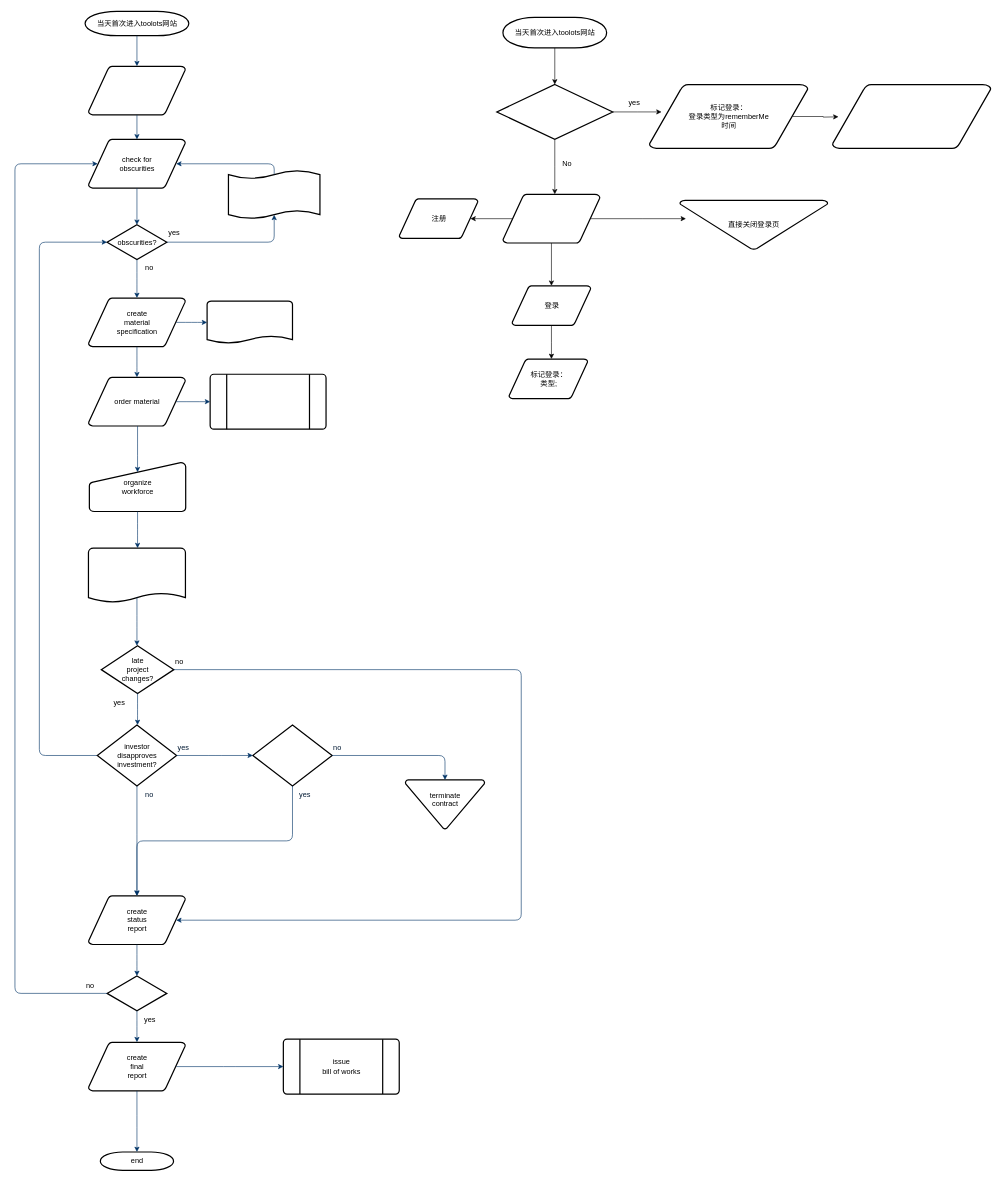
Some shapes in this 1002 by 1181 pixel diagram are drawn without their labels. Here are the shapes that lost their labels. From the top down, the centre of each, then its label:
the point at 554,112: 是否处于登录状态
the point at 911,116: 标记着陆页： user 时间 页面地址 页面类型 广告引流/自然流量
the point at 274,194: iron out obscurities with investor
the point at 551,218: 弹窗建议登录
the point at 249,322: final project
the point at 267,401: material balance
the point at 137,575: create Gantt diagram
the point at 292,755: agreement?
the point at 136,993: project complete?
